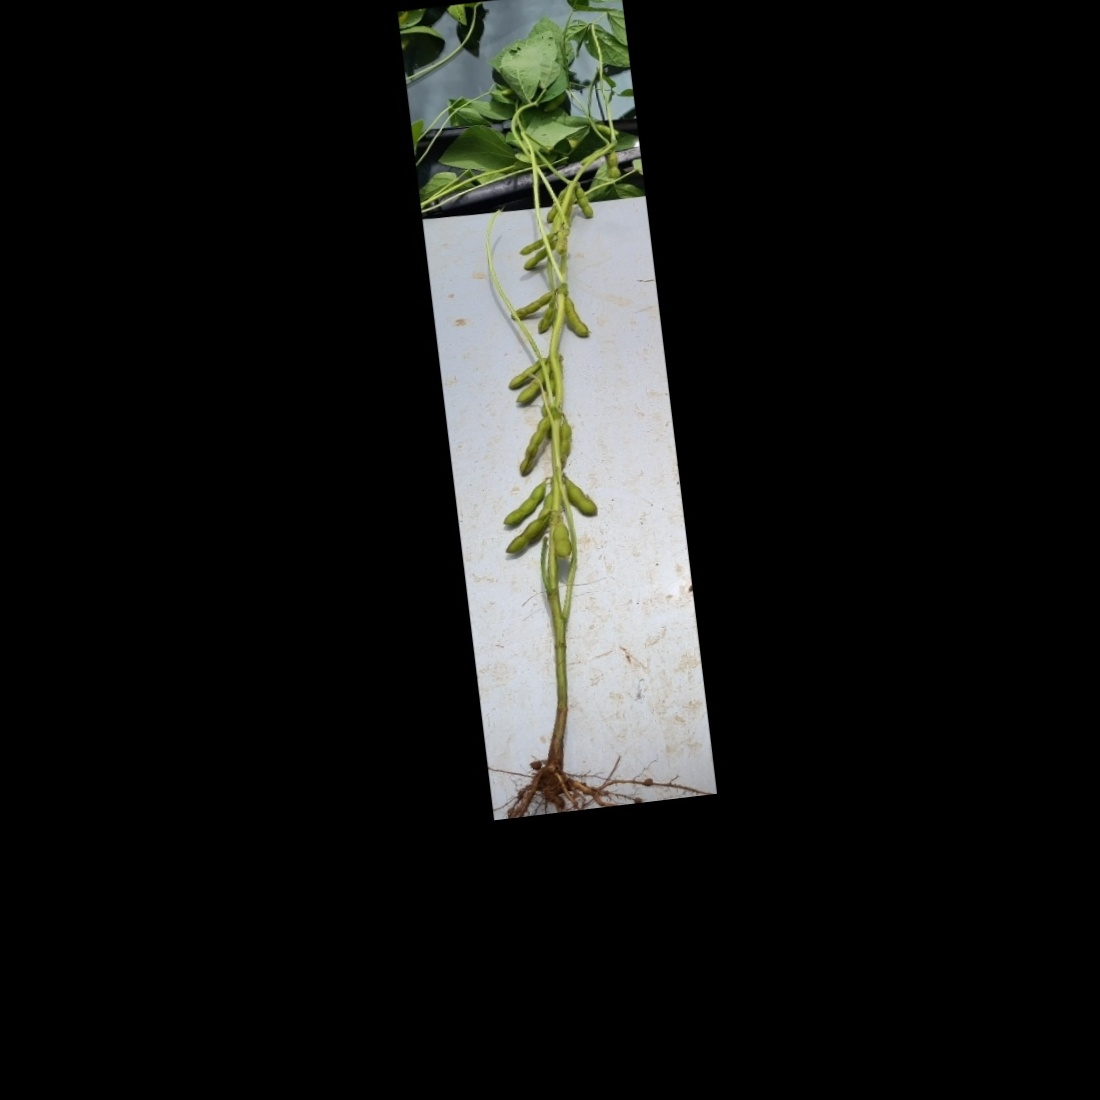pod: (509, 414, 556, 477), (494, 477, 550, 528), (559, 471, 601, 521), (498, 515, 548, 556), (518, 240, 560, 272), (561, 294, 589, 339), (516, 227, 555, 256), (570, 181, 597, 223), (550, 518, 574, 563), (531, 300, 560, 336), (599, 148, 621, 184), (539, 91, 568, 114)
soy: (420, 33, 688, 795)
